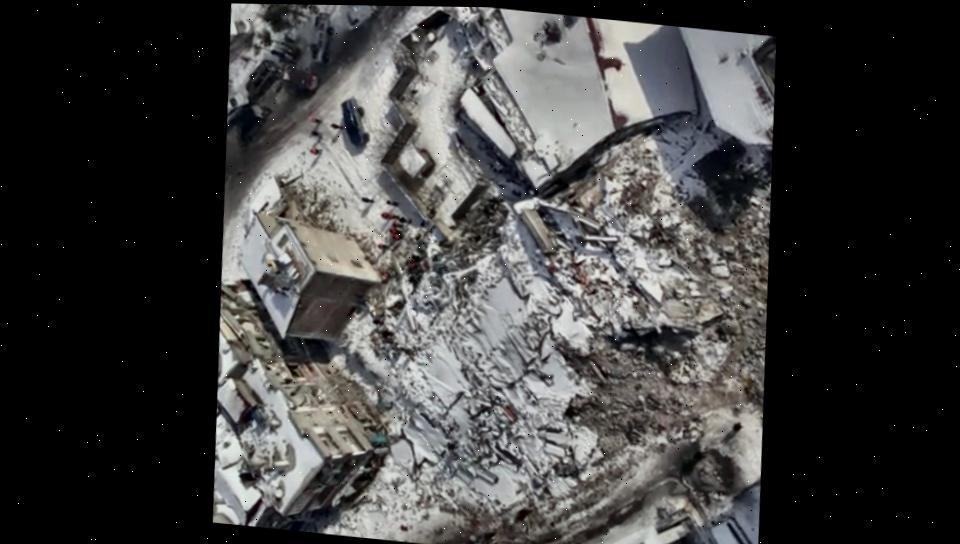kapali: (420, 277, 767, 544)
